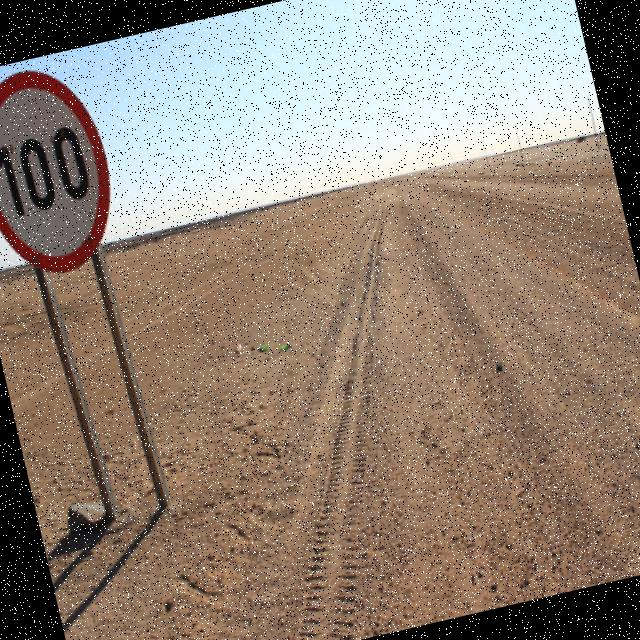speed_limit_100: (0, 48, 137, 291)
